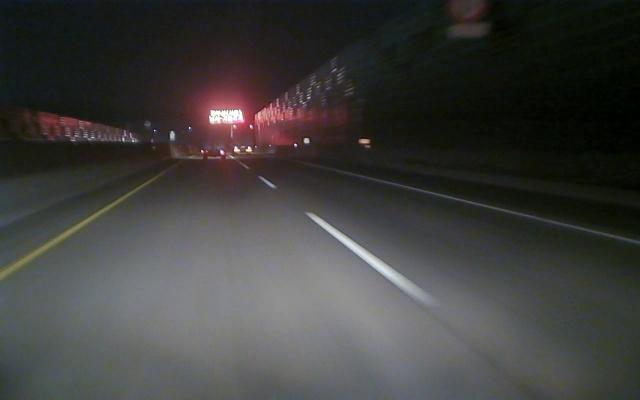lane: (250, 170, 440, 306), (339, 171, 637, 246), (1, 188, 139, 279)
